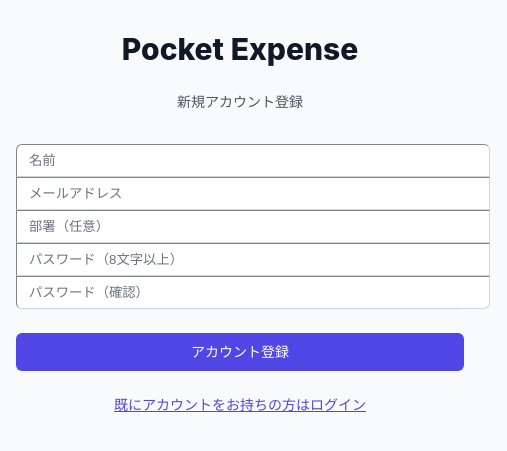
Scenario: Register › パスワードが短すぎる場合はエラーメッセージが表示されること
Type "テストユーザー" into the field with placeholder "名前" at (253, 160), box [16,144,490,177]
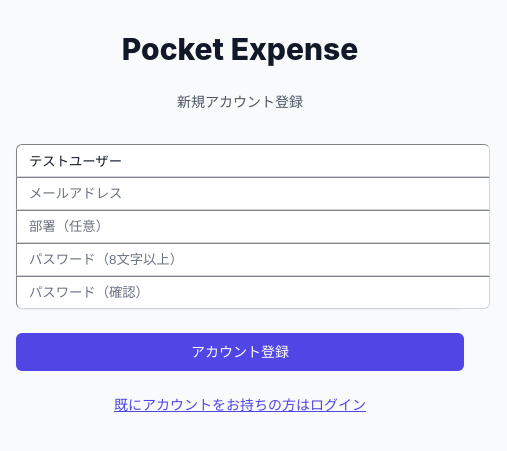
Type "test@example.com" into the field with placeholder "メールアドレス" at (253, 193), box [16,177,490,210]
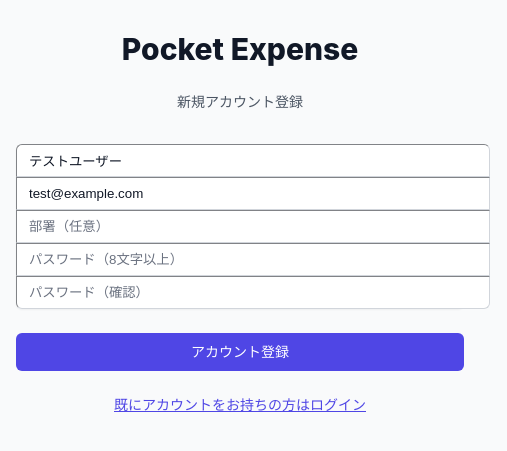
Type "short" into the password field with placeholder "パスワード（8文字以上）" at (253, 259), box [16,243,490,276]
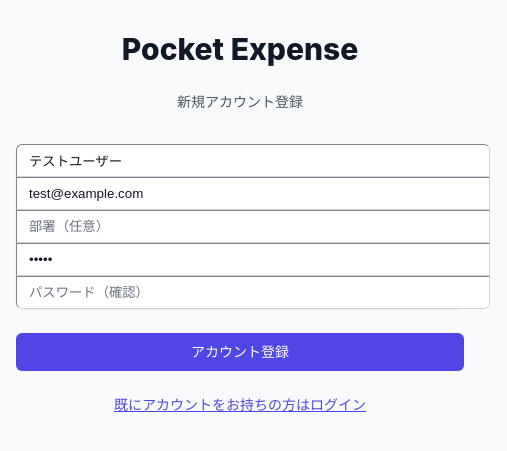
Type "short" into the password field with placeholder "パスワード（確認）" at (253, 292), box [16,276,490,309]
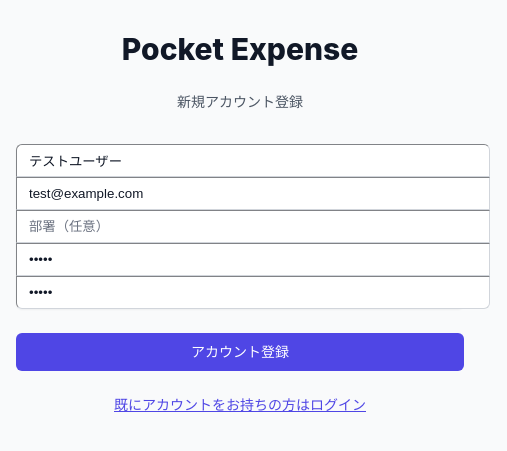
Note:  フォームを送信
Click the button "アカウント登録" at (240, 352), box [16,333,464,371]
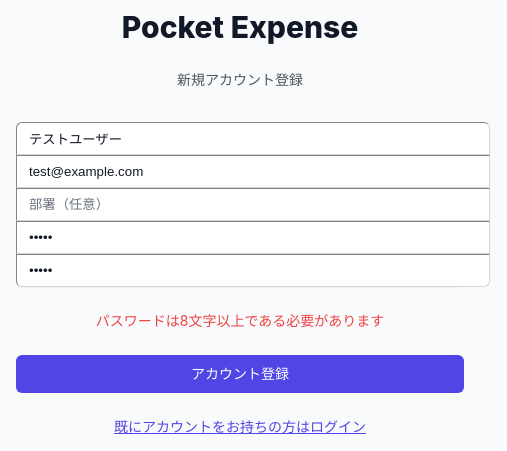
expect the text "パスワードは8文字以上である必要があります" is shown: met, box [96,312,384,329]
